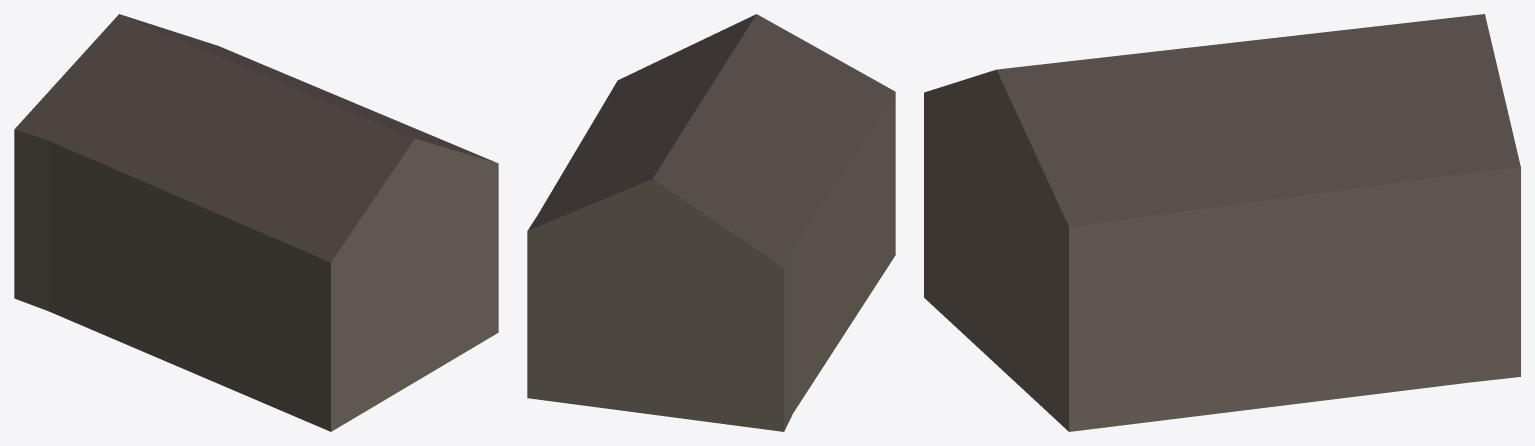
3 renders of one model, left to right at view 1: azimuth 30°, elevation 25°; view 2: azimuth 150°, elevation 25°; view 3: azimuth 270°, elevation 25°, orthographic. The views are drawn at different scales.
Parts seen in each view (by area): view 1: HP-w1198667813; view 2: HP-w1198667813; view 3: HP-w1198667813.
Boxes of the visible parts, x1,y1,x2,y2 form: HP-w1198667813: [14, 14, 498, 431]; HP-w1198667813: [527, 14, 895, 431]; HP-w1198667813: [924, 14, 1520, 431].
Size of the model in its own units: 12.17 by 8.64 by 15.83.
